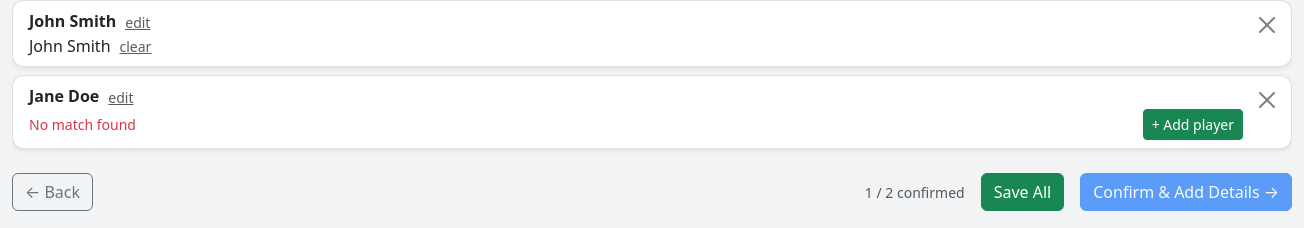
ResolveNamesStep › removes an entire row (not just its match) when its remove button is clicked
This screenshot has width=1304, height=228.
Expected: the text "Jane Doe" is shown, [29,85,99,107]
Click the button named "Remove John Smith".
click(1267, 25)  # box [1255,13,1279,37]
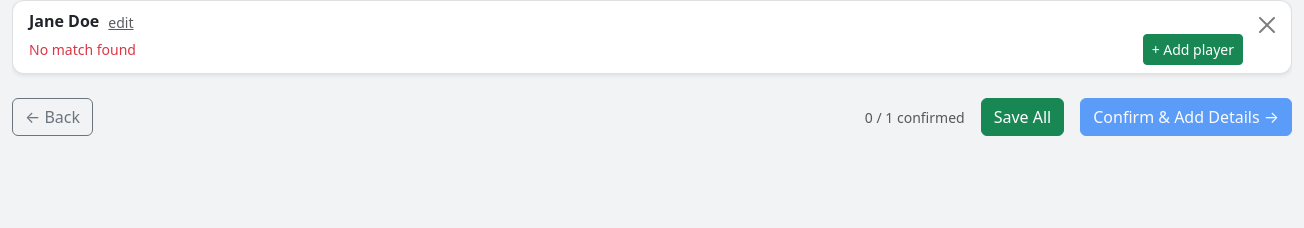
Expected: the text "Jane Doe" is shown, [29,10,99,32]
Expected: the button "Confirm & Add Details →" is disabled, [1080,98,1292,136]
Click the button named "Remove Jane Doe".
click(1267, 25)  # box [1255,13,1279,37]
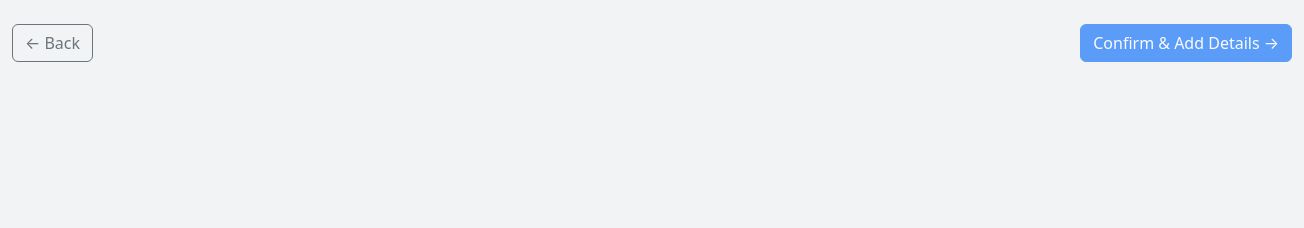
Expected: the button "Confirm & Add Details →" is disabled, [1080,24,1292,62]
Now the text "Jane Doe" is gone
